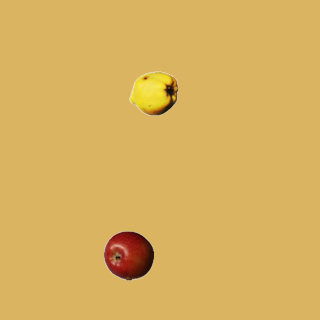Apple Braeburn: (103, 230, 153, 280)
Quince: (128, 68, 178, 118)
